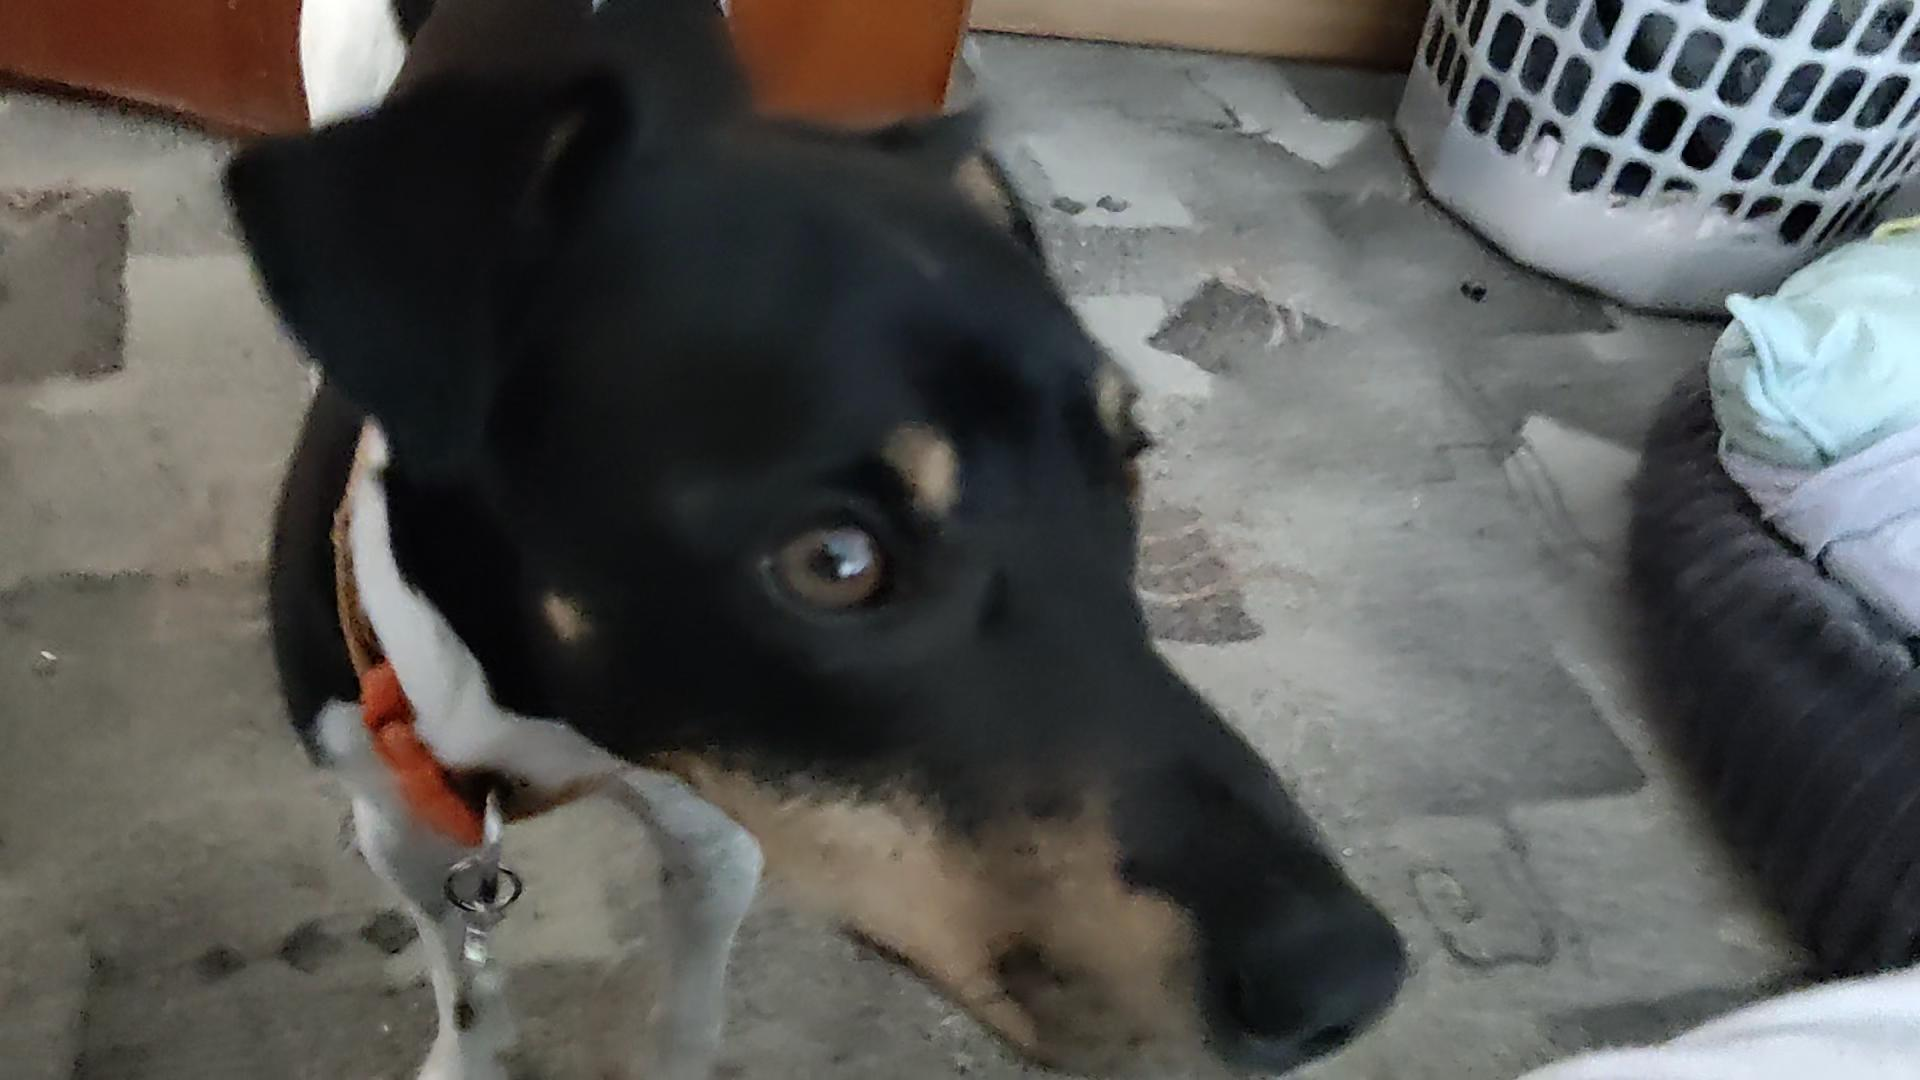Dog: (164, 0, 1432, 1080)
